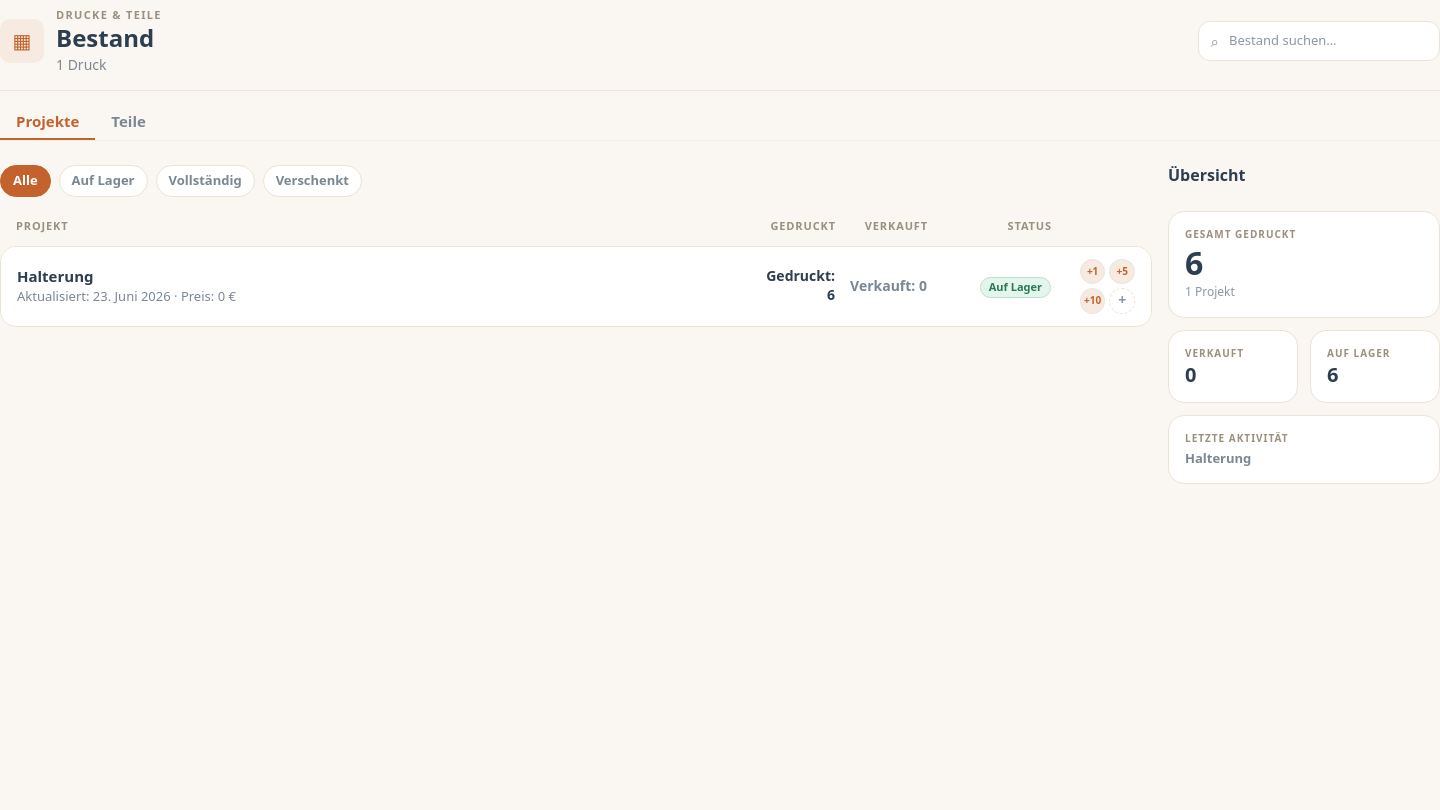
Test case: InventoryComponent › renders snapshot and sale history detail data with German labels
What coordinates should you click on to do the following:
click the list item with test id "inventory-card"
I would click on:
 (576, 286)
Its box is top-left (1, 246), bottom-right (1151, 326).
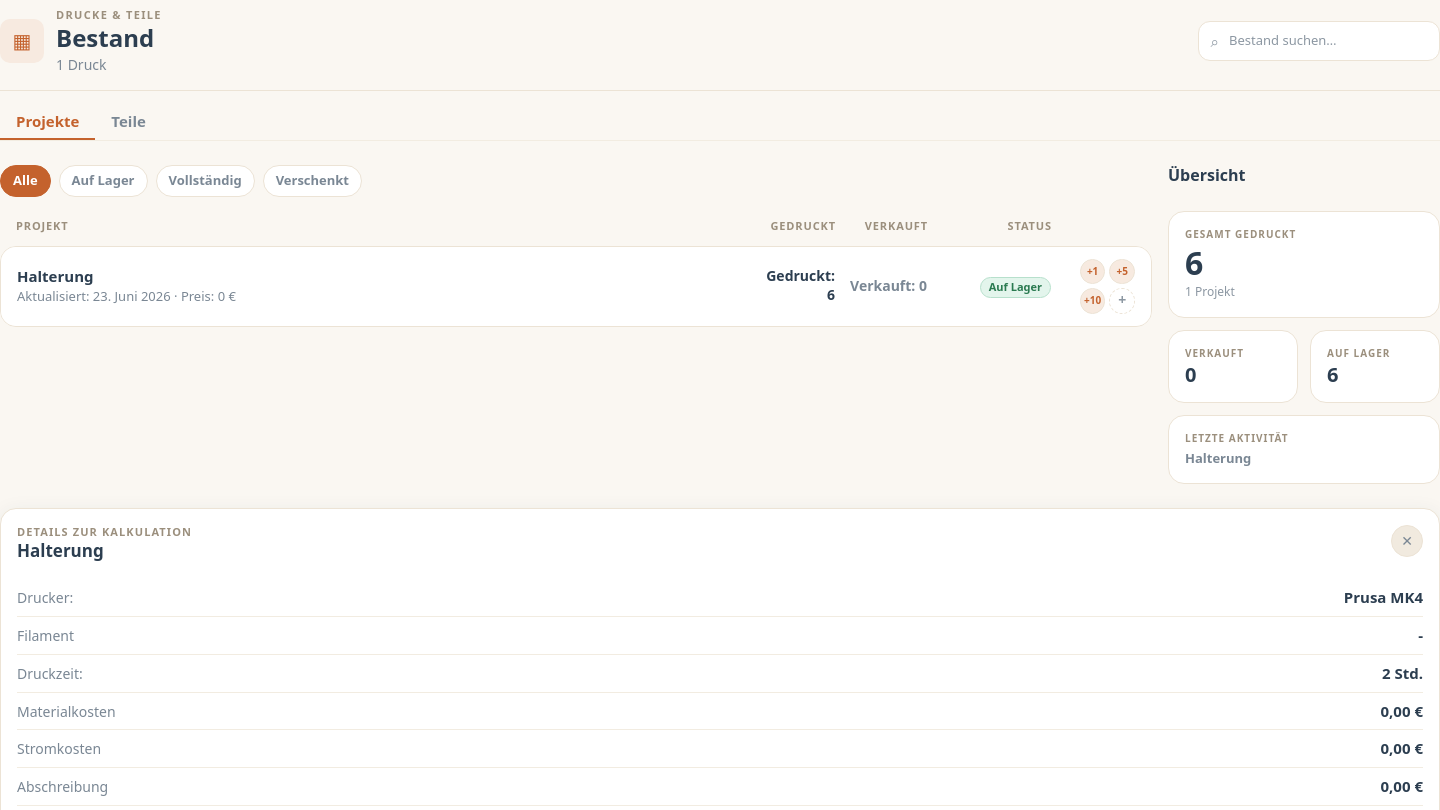
Now the text "Drucker: Prusa MK4" is shown, box top-left (17, 579), bottom-right (1423, 617)
Now the text "Druckzeit: 2 Std." is shown, box top-left (17, 655), bottom-right (1423, 692)
